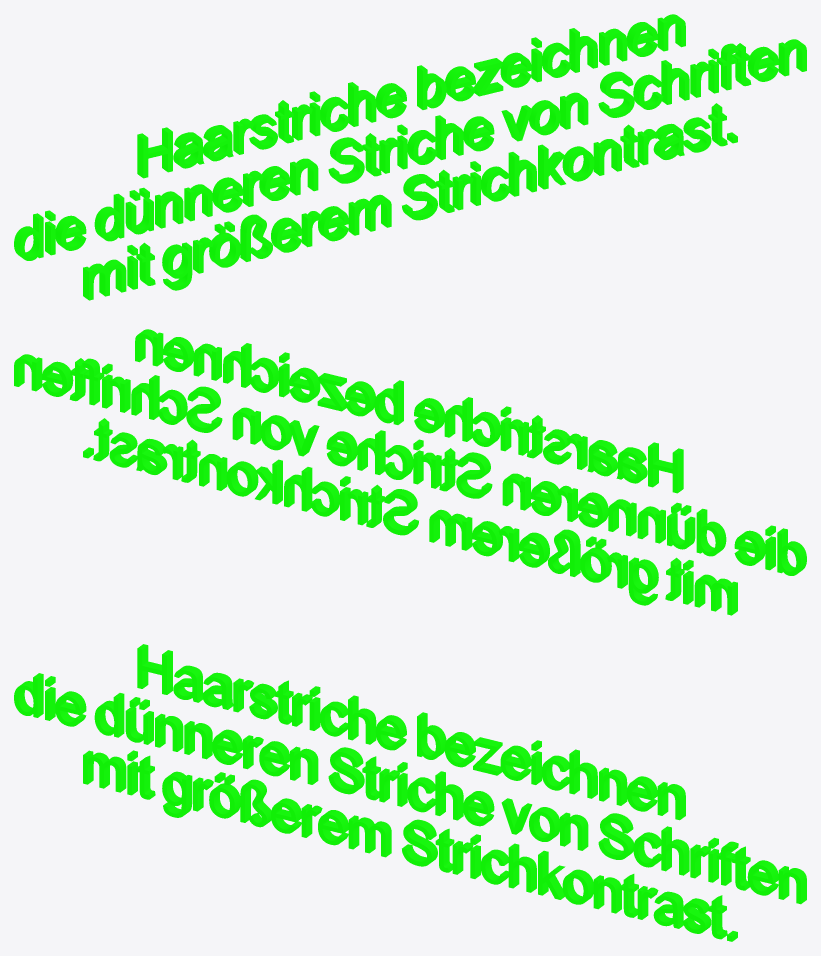
The model's file is station5.glb.
The picture shows the model from 3 angles, top to bottom: view 1: azimuth 30°, elevation 25°; view 2: azimuth 150°, elevation 25°; view 3: azimuth 330°, elevation 25°; orthographic projection.
Parts seen in each view (by area): view 1: Text; view 2: Text; view 3: Text.
Boxes of the visible parts, bbox=[...] form: Text: bbox=[14, 14, 806, 300]; Text: bbox=[14, 329, 806, 615]; Text: bbox=[14, 644, 806, 941].
Size of the model in its own units: 10.59 by 2.06 by 0.14.
